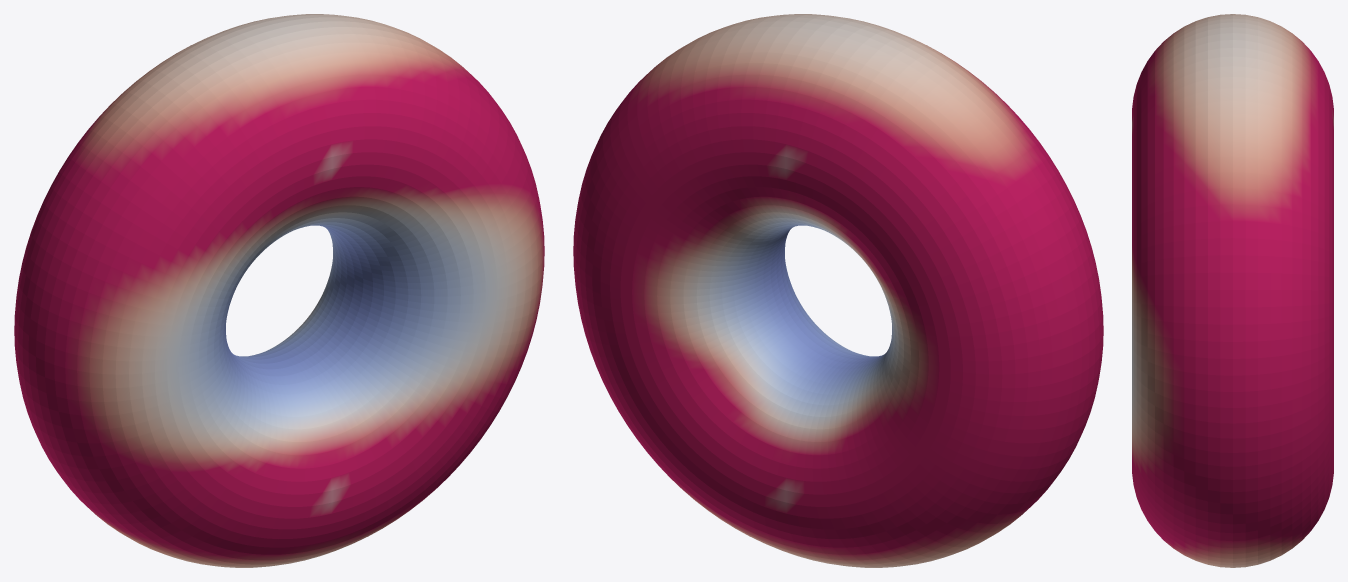
3 views of the same model, side by side, from view 1: azimuth 30°, elevation 25°; view 2: azimuth 150°, elevation 25°; view 3: azimuth 270°, elevation 25° (orthographic). The views are drawn at different scales.
Visible parts, largest first — view 1: world; view 2: world; view 3: world.
Boxes of the visible parts, box(x1,y1,x2,y2) form: world: box(14, 14, 544, 567); world: box(573, 14, 1103, 567); world: box(1132, 14, 1333, 567).
Size of the model in its own units: 25.2 by 25.2 by 9.18.
